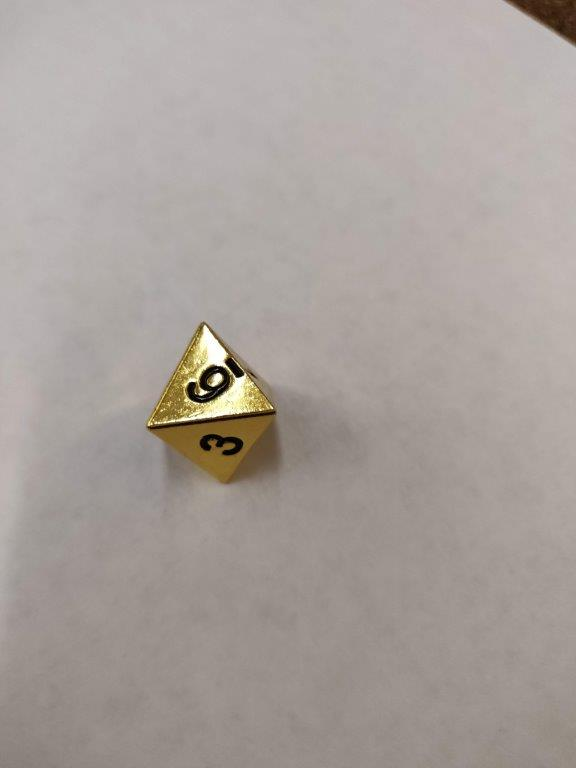d8-6: (144, 318, 282, 485)
